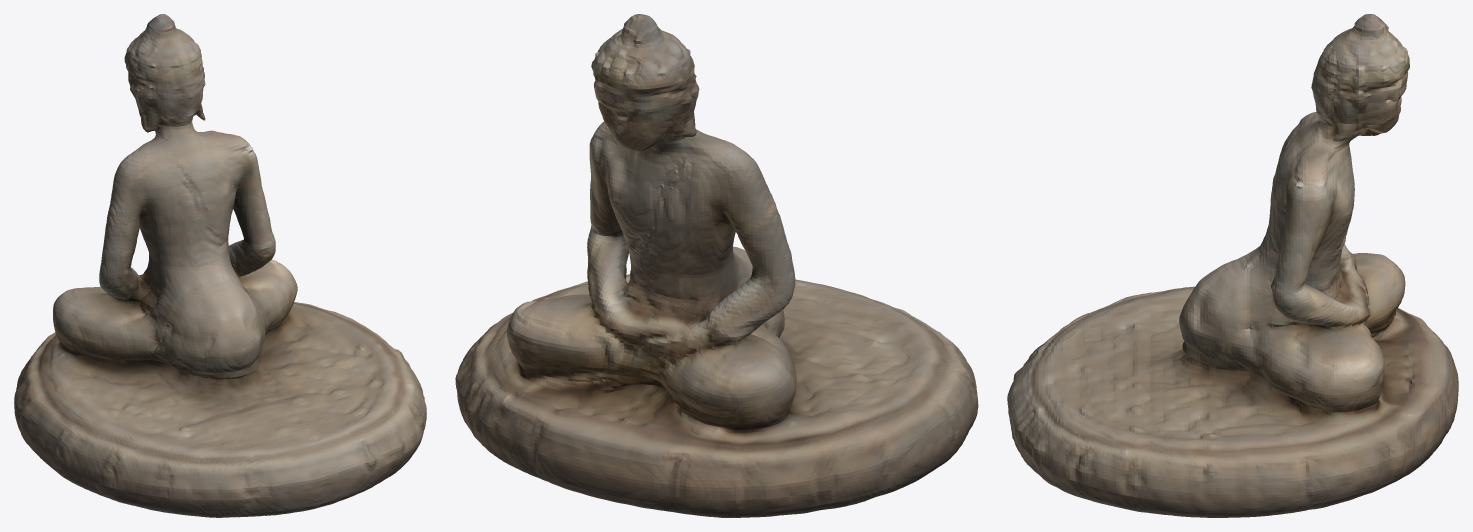
File: buda.glb
The picture shows the model from 3 angles, left to right: view 1: azimuth 30°, elevation 25°; view 2: azimuth 150°, elevation 25°; view 3: azimuth 270°, elevation 25°; orthographic projection. The views are drawn at different scales.
Parts seen in each view (by area): view 1: geometry_0; view 2: geometry_0; view 3: geometry_0.
Boxes of the visible parts, x1,y1,x2,y2 form: geometry_0: (14,14,426,517); geometry_0: (455,14,978,517); geometry_0: (1007,14,1458,517).
Size of the model in its own units: 0.9987 by 1.03 by 0.9897.
